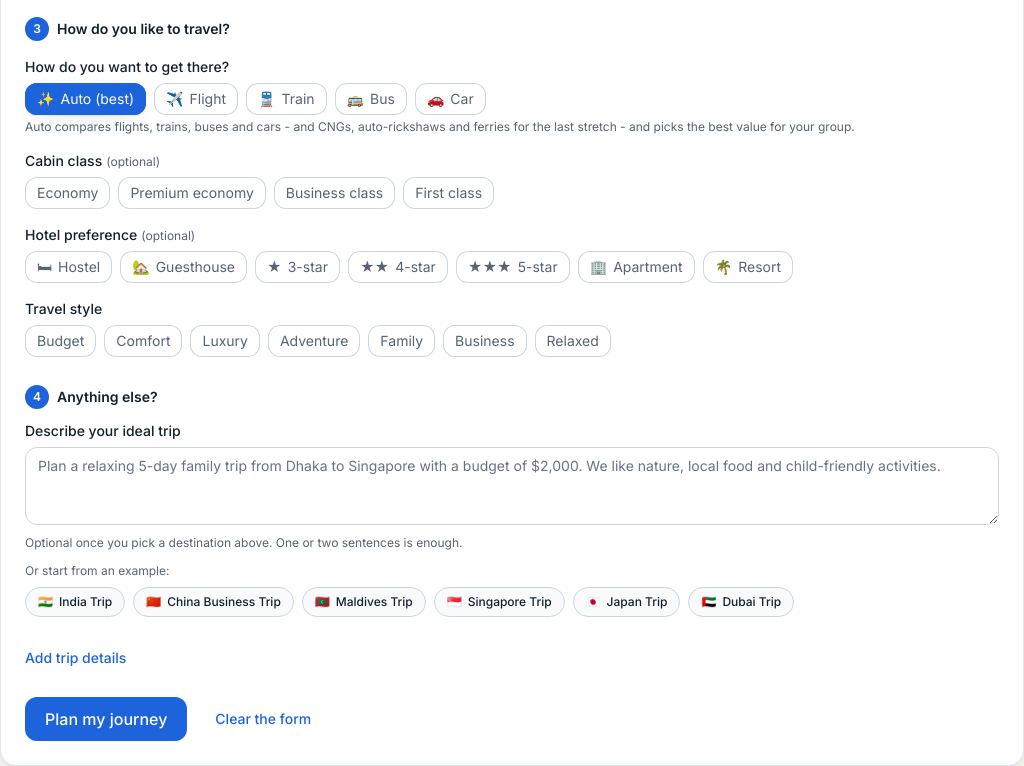
Test: PlannerForm › shows the route builder up front and keeps the extras collapsed
(page scrolled)
Check: the field labelled "special requirements" is not shown
Click the button "Add trip details". click: (76, 658)
box: left=25, top=648, right=126, bottom=668
(page scrolled)
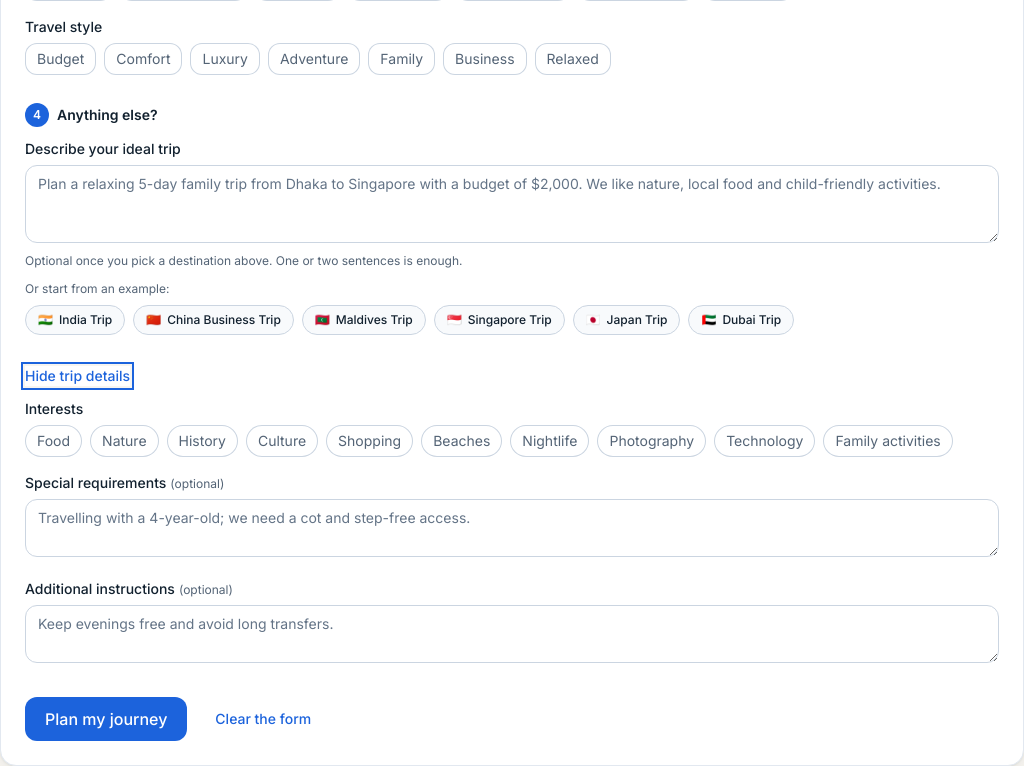
Check: the text box labelled "Special requirements(optional)" is shown, box left=25, top=499, right=999, bottom=557
